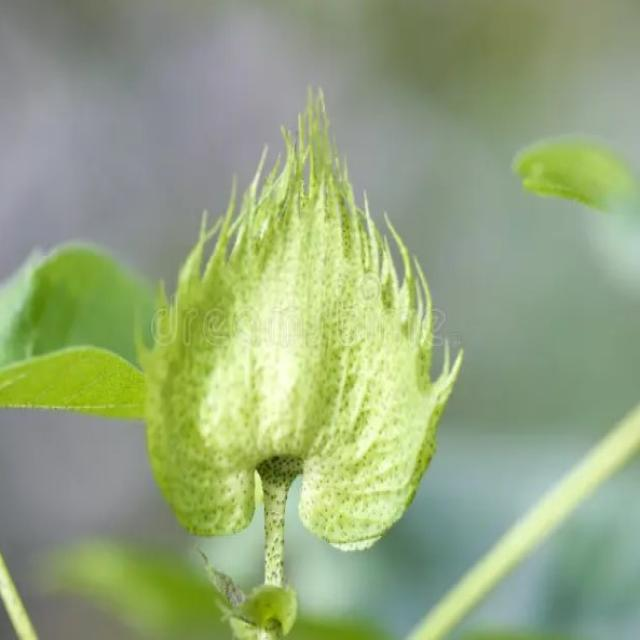Cotton Bud: (147, 131, 436, 557)
